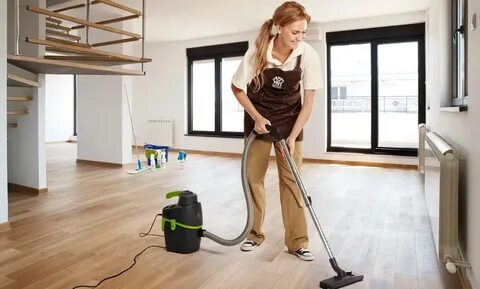awake: (230, 1, 321, 262)
